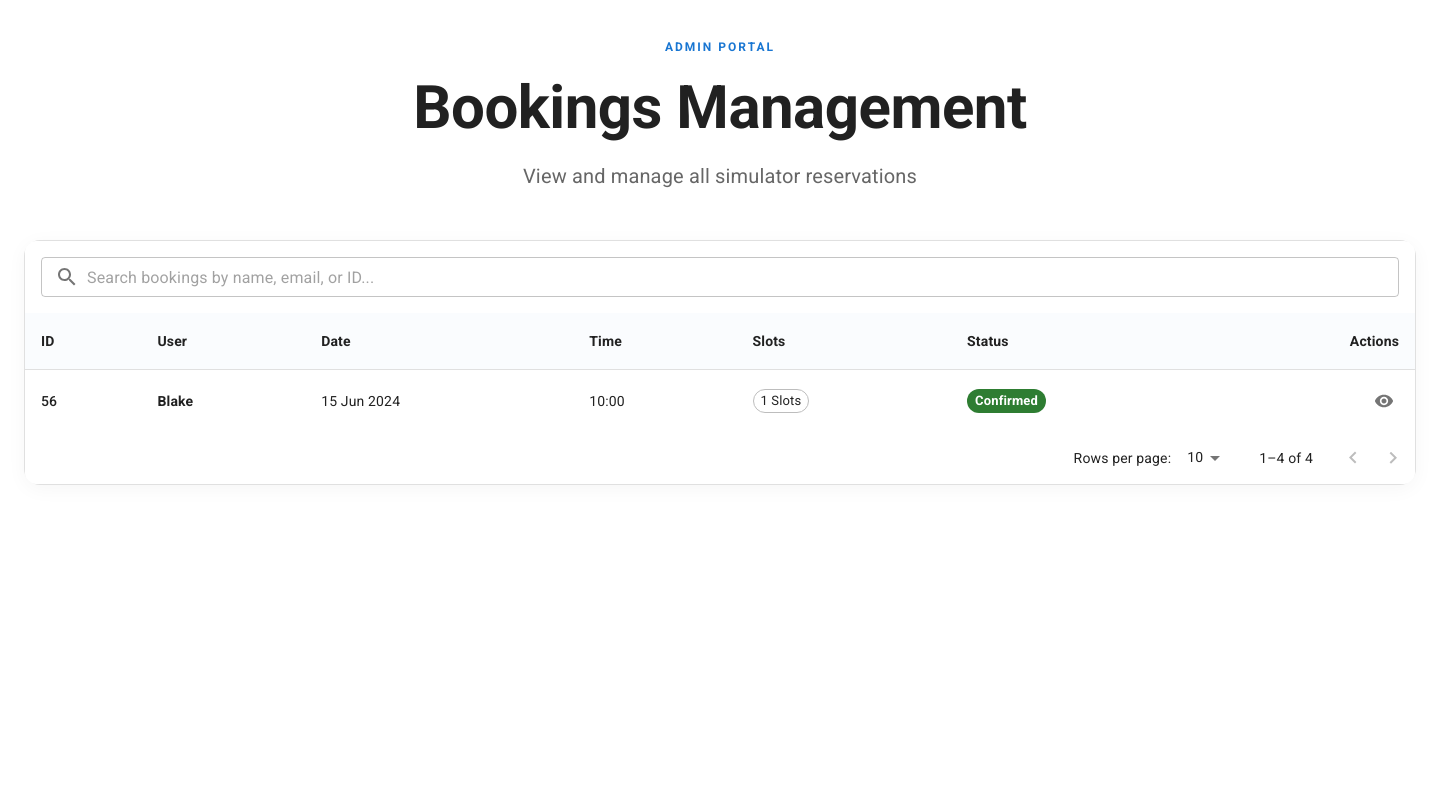
Test: AdminBookings › handles extend 2 hours success with custom message
Step 1. Click the text "Blake" → (175, 401), box [157,393,193,409]
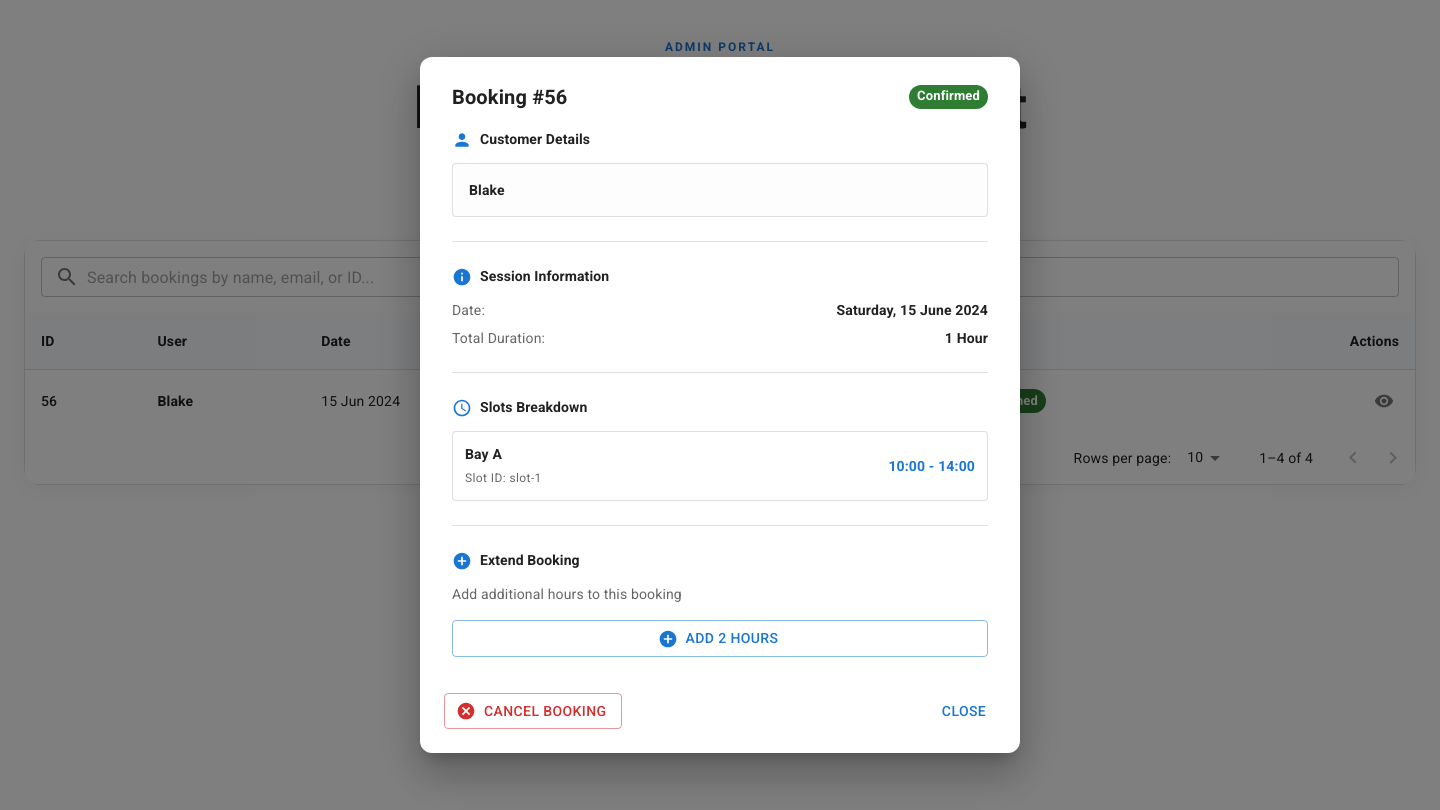
Now the button "Add 2 Hours" is shown
Step 2. Click the button "Add 2 Hours" → (720, 639), box [452,620,988,657]
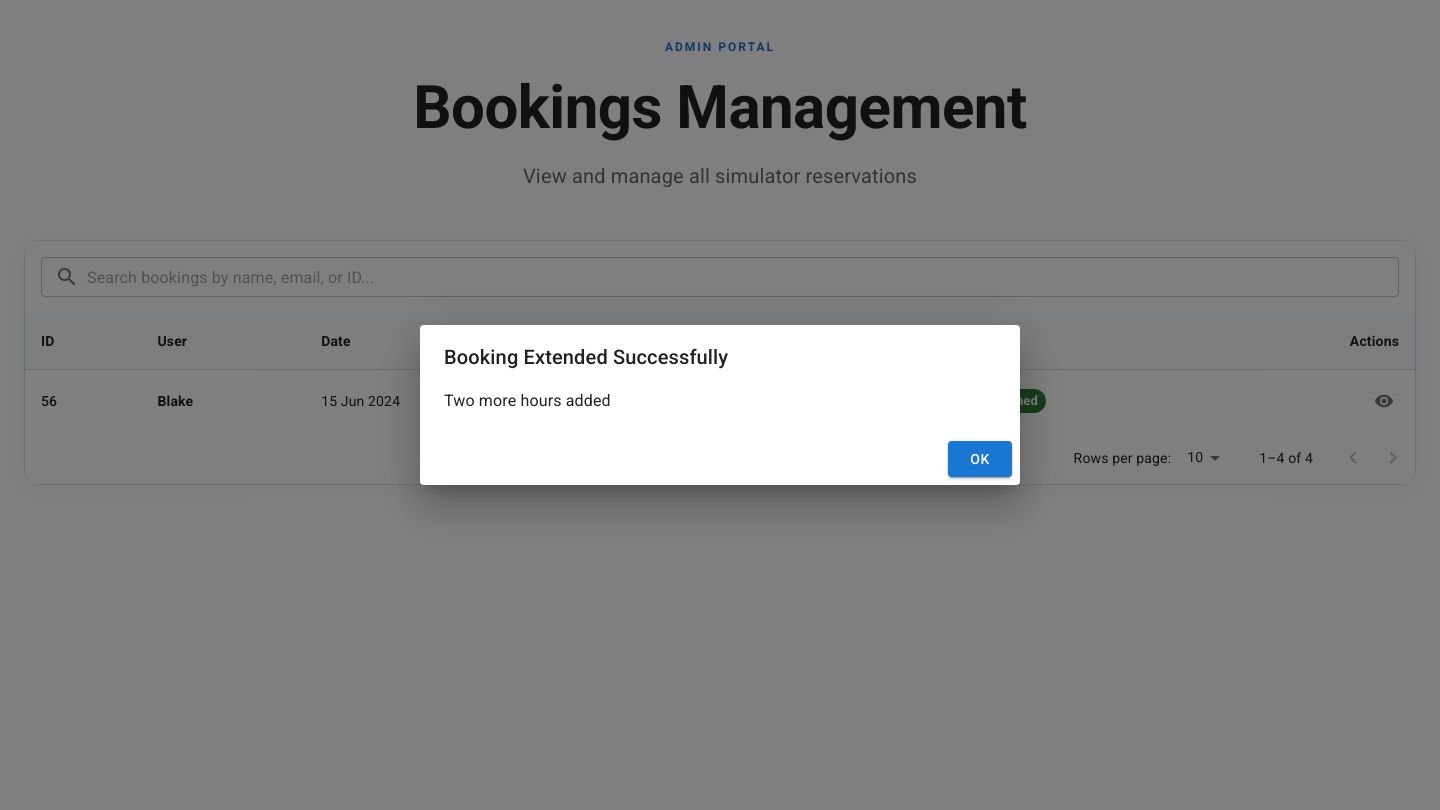
Now the text "Two more hours added" is shown, box [444,391,611,410]
